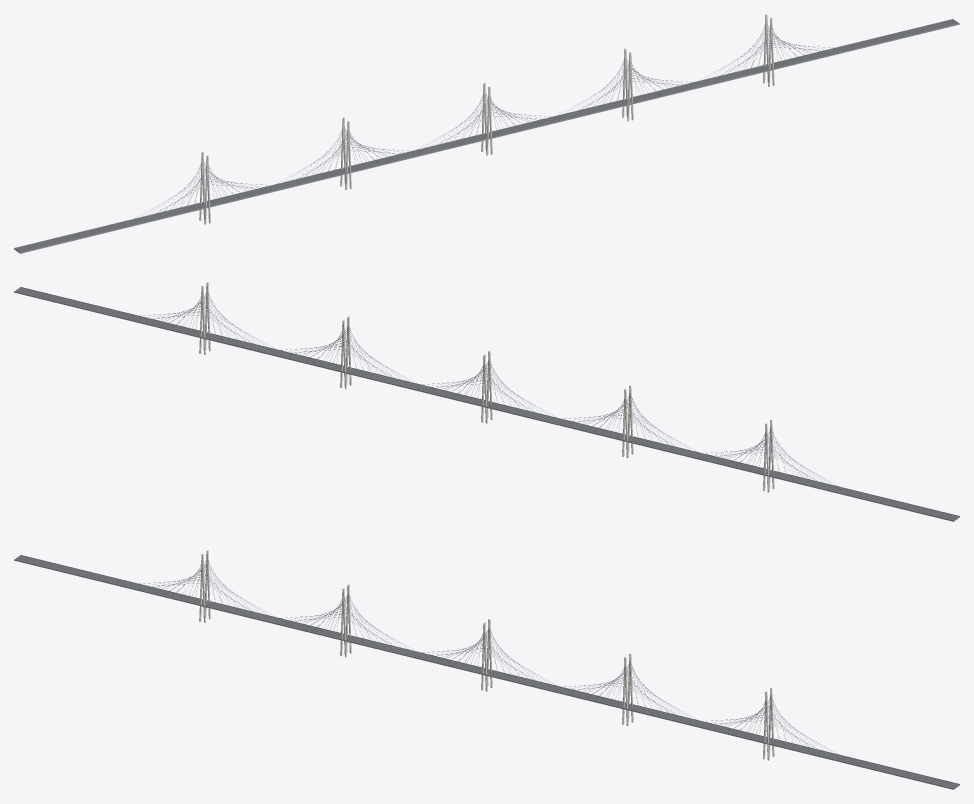
The picture shows the model from 3 angles, top to bottom: view 1: azimuth 30°, elevation 25°; view 2: azimuth 150°, elevation 25°; view 3: azimuth 330°, elevation 25°; orthographic projection.
Parts seen in each view (by area): view 1: worldgen; view 2: worldgen; view 3: worldgen.
Part boxes in pixels (x1=…): worldgen: x1=14, y1=14, x2=959, y2=253; worldgen: x1=14, y1=282, x2=959, y2=521; worldgen: x1=14, y1=550, x2=959, y2=789.
Bounding box in the file's own units: 2460 × 170 × 28.83.
